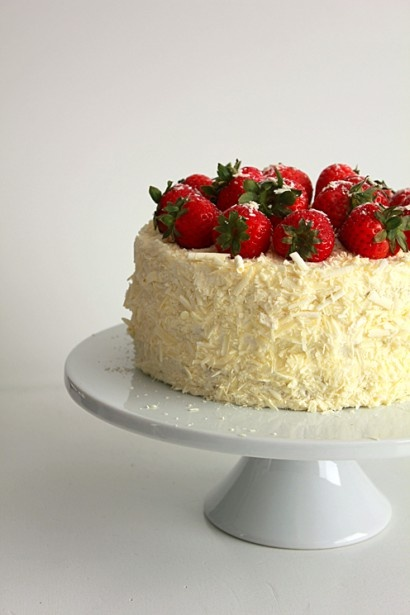background: (77, 151, 262, 395)
